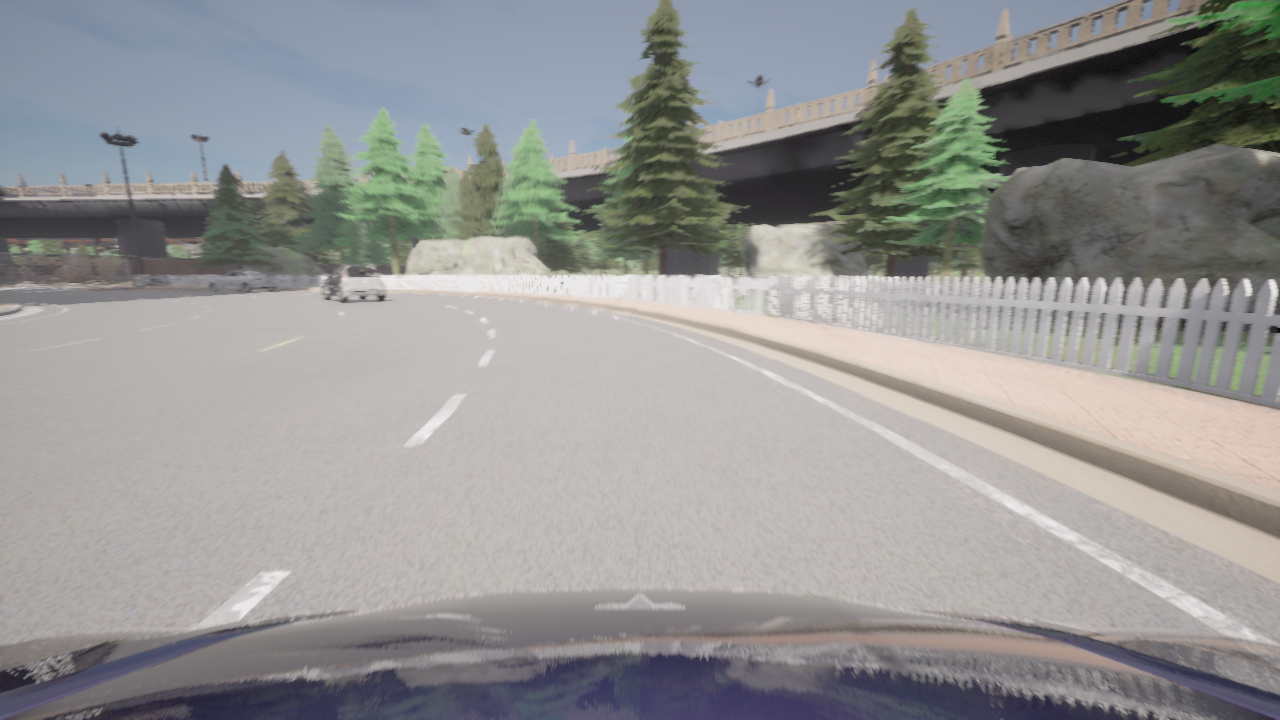cyclist: (0, 588, 1279, 719), (321, 264, 386, 302), (208, 270, 278, 291)
